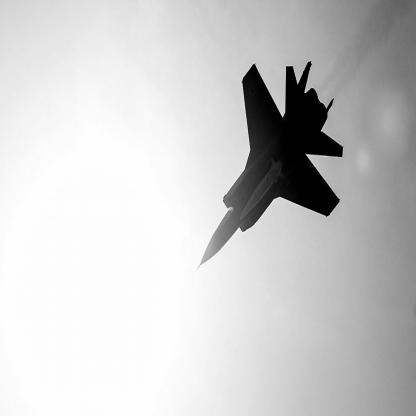Mig31: (197, 62, 345, 273)
